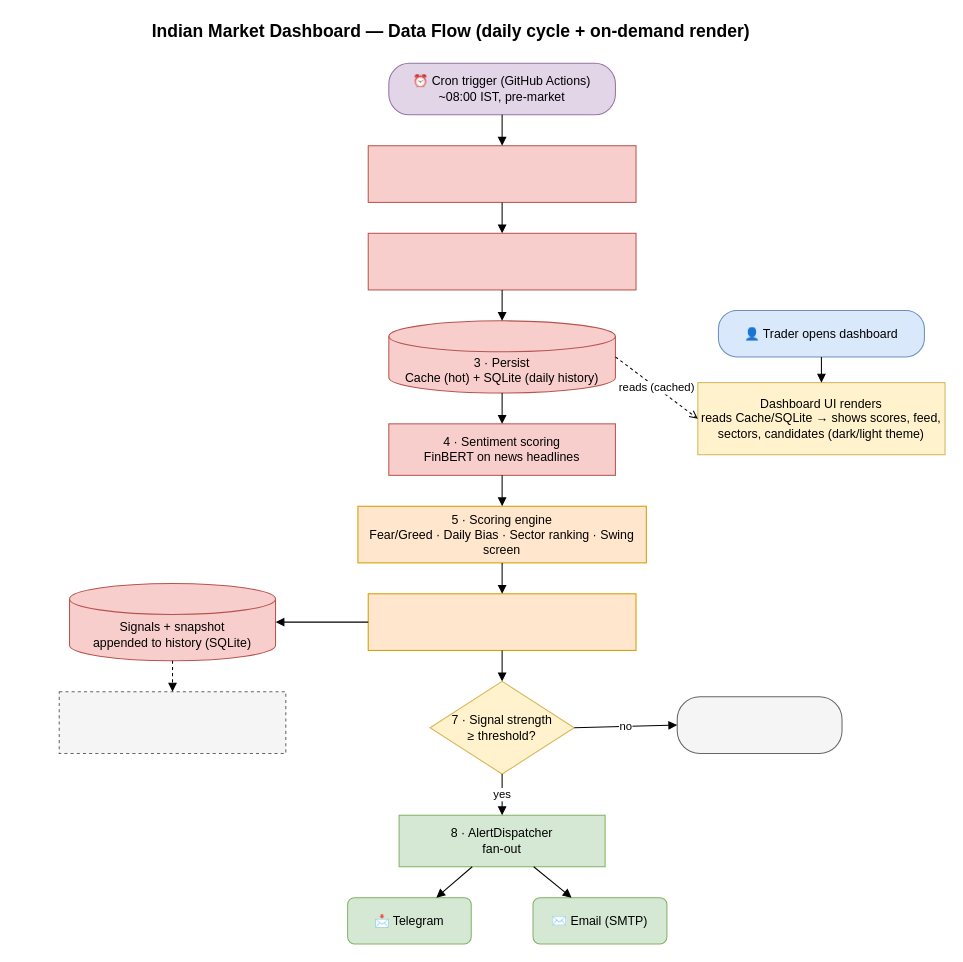
Some shapes in this 963 by 962 pixel diagram are drawn without their labels. The shapes that lost their labels are listed below. From the top down, each one's centre as x and y in pixels, then its label:
point 501,173: 1 · Fetch raw data PriceProvider · NSEProvider · NewsProvider · GlobalCues
point 501,261: 2 · Normalize + dedup clean, align timestamps, handle rate limits/fallbacks
point 501,621: 6 · Generate signals bias, hot sectors, swing candidates (w/ entry/stop/target)
point 172,722: Phase 9: Backtest score vs realized moves → tune weights
point 759,724: No alert (dashboard still updates)
